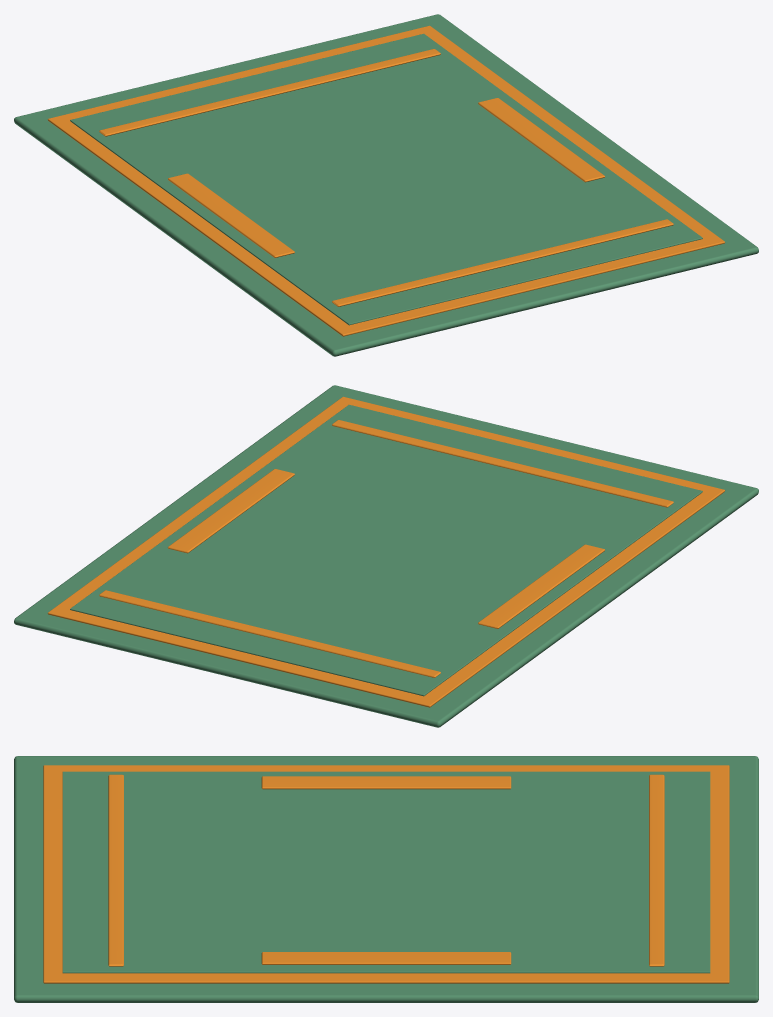
Rendered from rug_green_orange.glb.
The picture shows the model from 3 angles, top to bottom: view 1: azimuth 30°, elevation 25°; view 2: azimuth 150°, elevation 25°; view 3: azimuth 270°, elevation 25°; orthographic projection. The views are drawn at different scales.
Visible parts, largest first — view 1: field, carpet, border, end border, end border.001, central motif.001, central motif; view 2: field, carpet, border, end border.001, end border, central motif.001, central motif; view 3: field, carpet, border, central motif, central motif.001, end border, end border.001.
Part boxes in pixels (left/top/right/bottom): field: left=70, top=33, right=702, bottom=325; carpet: left=14, top=14, right=758, bottom=356; border: left=47, top=25, right=725, bottom=336; end border: left=332, top=219, right=673, bottom=306; end border.001: left=99, top=49, right=440, bottom=136; central motif.001: left=478, top=98, right=604, bottom=182; central motif: left=168, top=173, right=294, bottom=257; field: left=70, top=404, right=702, bottom=696; carpet: left=14, top=385, right=758, bottom=727; border: left=47, top=396, right=725, bottom=707; end border.001: left=99, top=590, right=440, bottom=677; end border: left=332, top=420, right=673, bottom=507; central motif.001: left=168, top=469, right=294, bottom=553; central motif: left=478, top=544, right=604, bottom=628; field: left=62, top=771, right=710, bottom=973; carpet: left=14, top=756, right=758, bottom=1002; border: left=43, top=765, right=729, bottom=983; central motif: left=261, top=776, right=511, bottom=789; central motif.001: left=261, top=952, right=511, bottom=964; end border: left=108, top=774, right=123, bottom=966; end border.001: left=649, top=774, right=664, bottom=966.
Bounding box in the file's own units: 1.65 × 0.0445 × 2.15.
